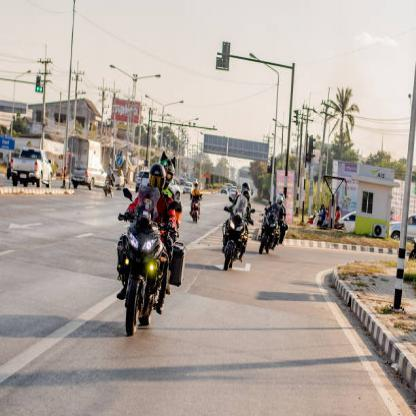Motorcycle: (109, 207, 186, 338), (210, 198, 249, 273)
